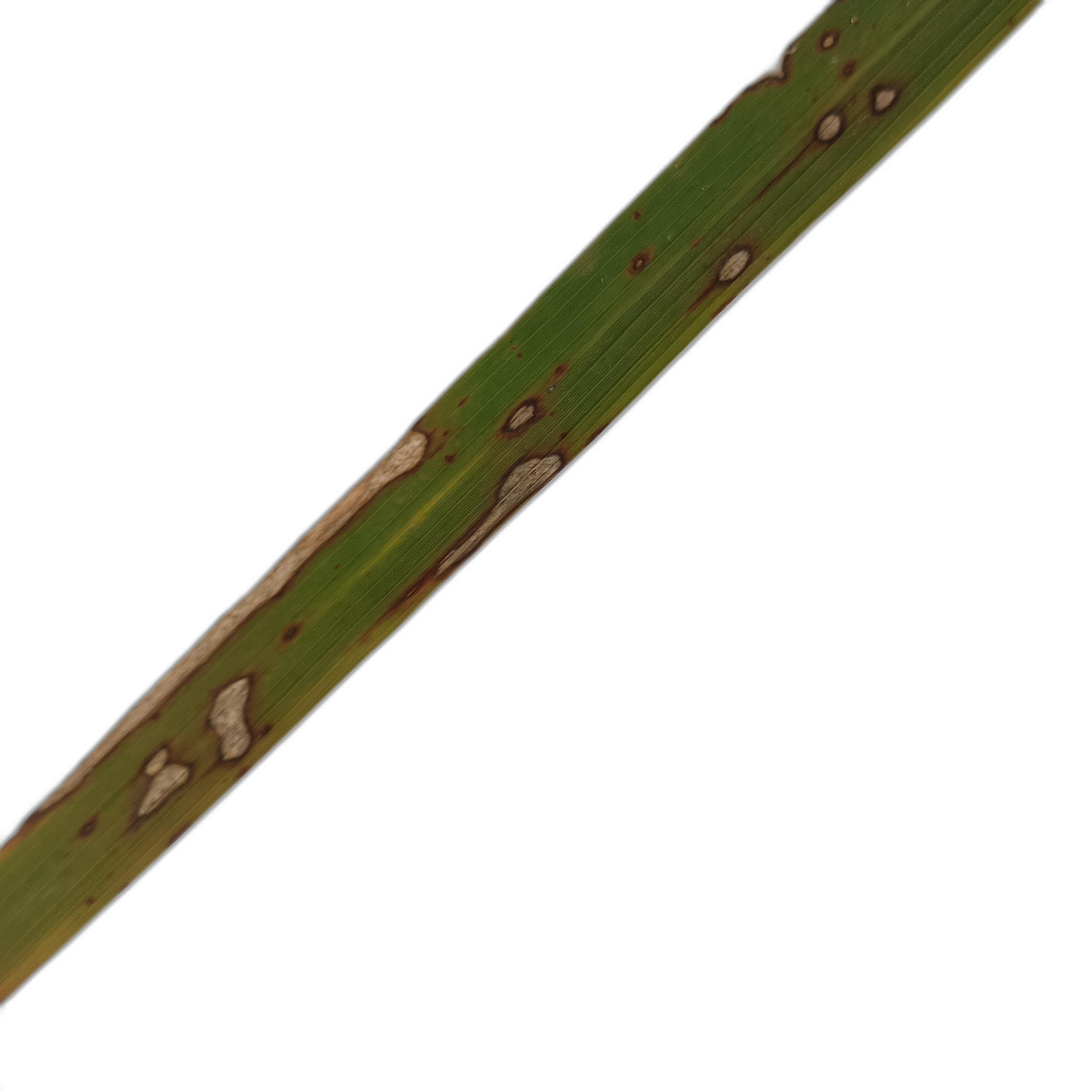LEAF BLAST: (0, 413, 453, 862), (344, 446, 574, 652), (744, 106, 850, 211), (202, 668, 276, 774), (123, 739, 199, 832), (685, 237, 763, 316), (492, 393, 548, 443), (867, 81, 906, 122), (625, 246, 656, 277), (815, 27, 844, 54), (281, 622, 303, 646), (838, 58, 860, 79), (78, 815, 97, 838)
